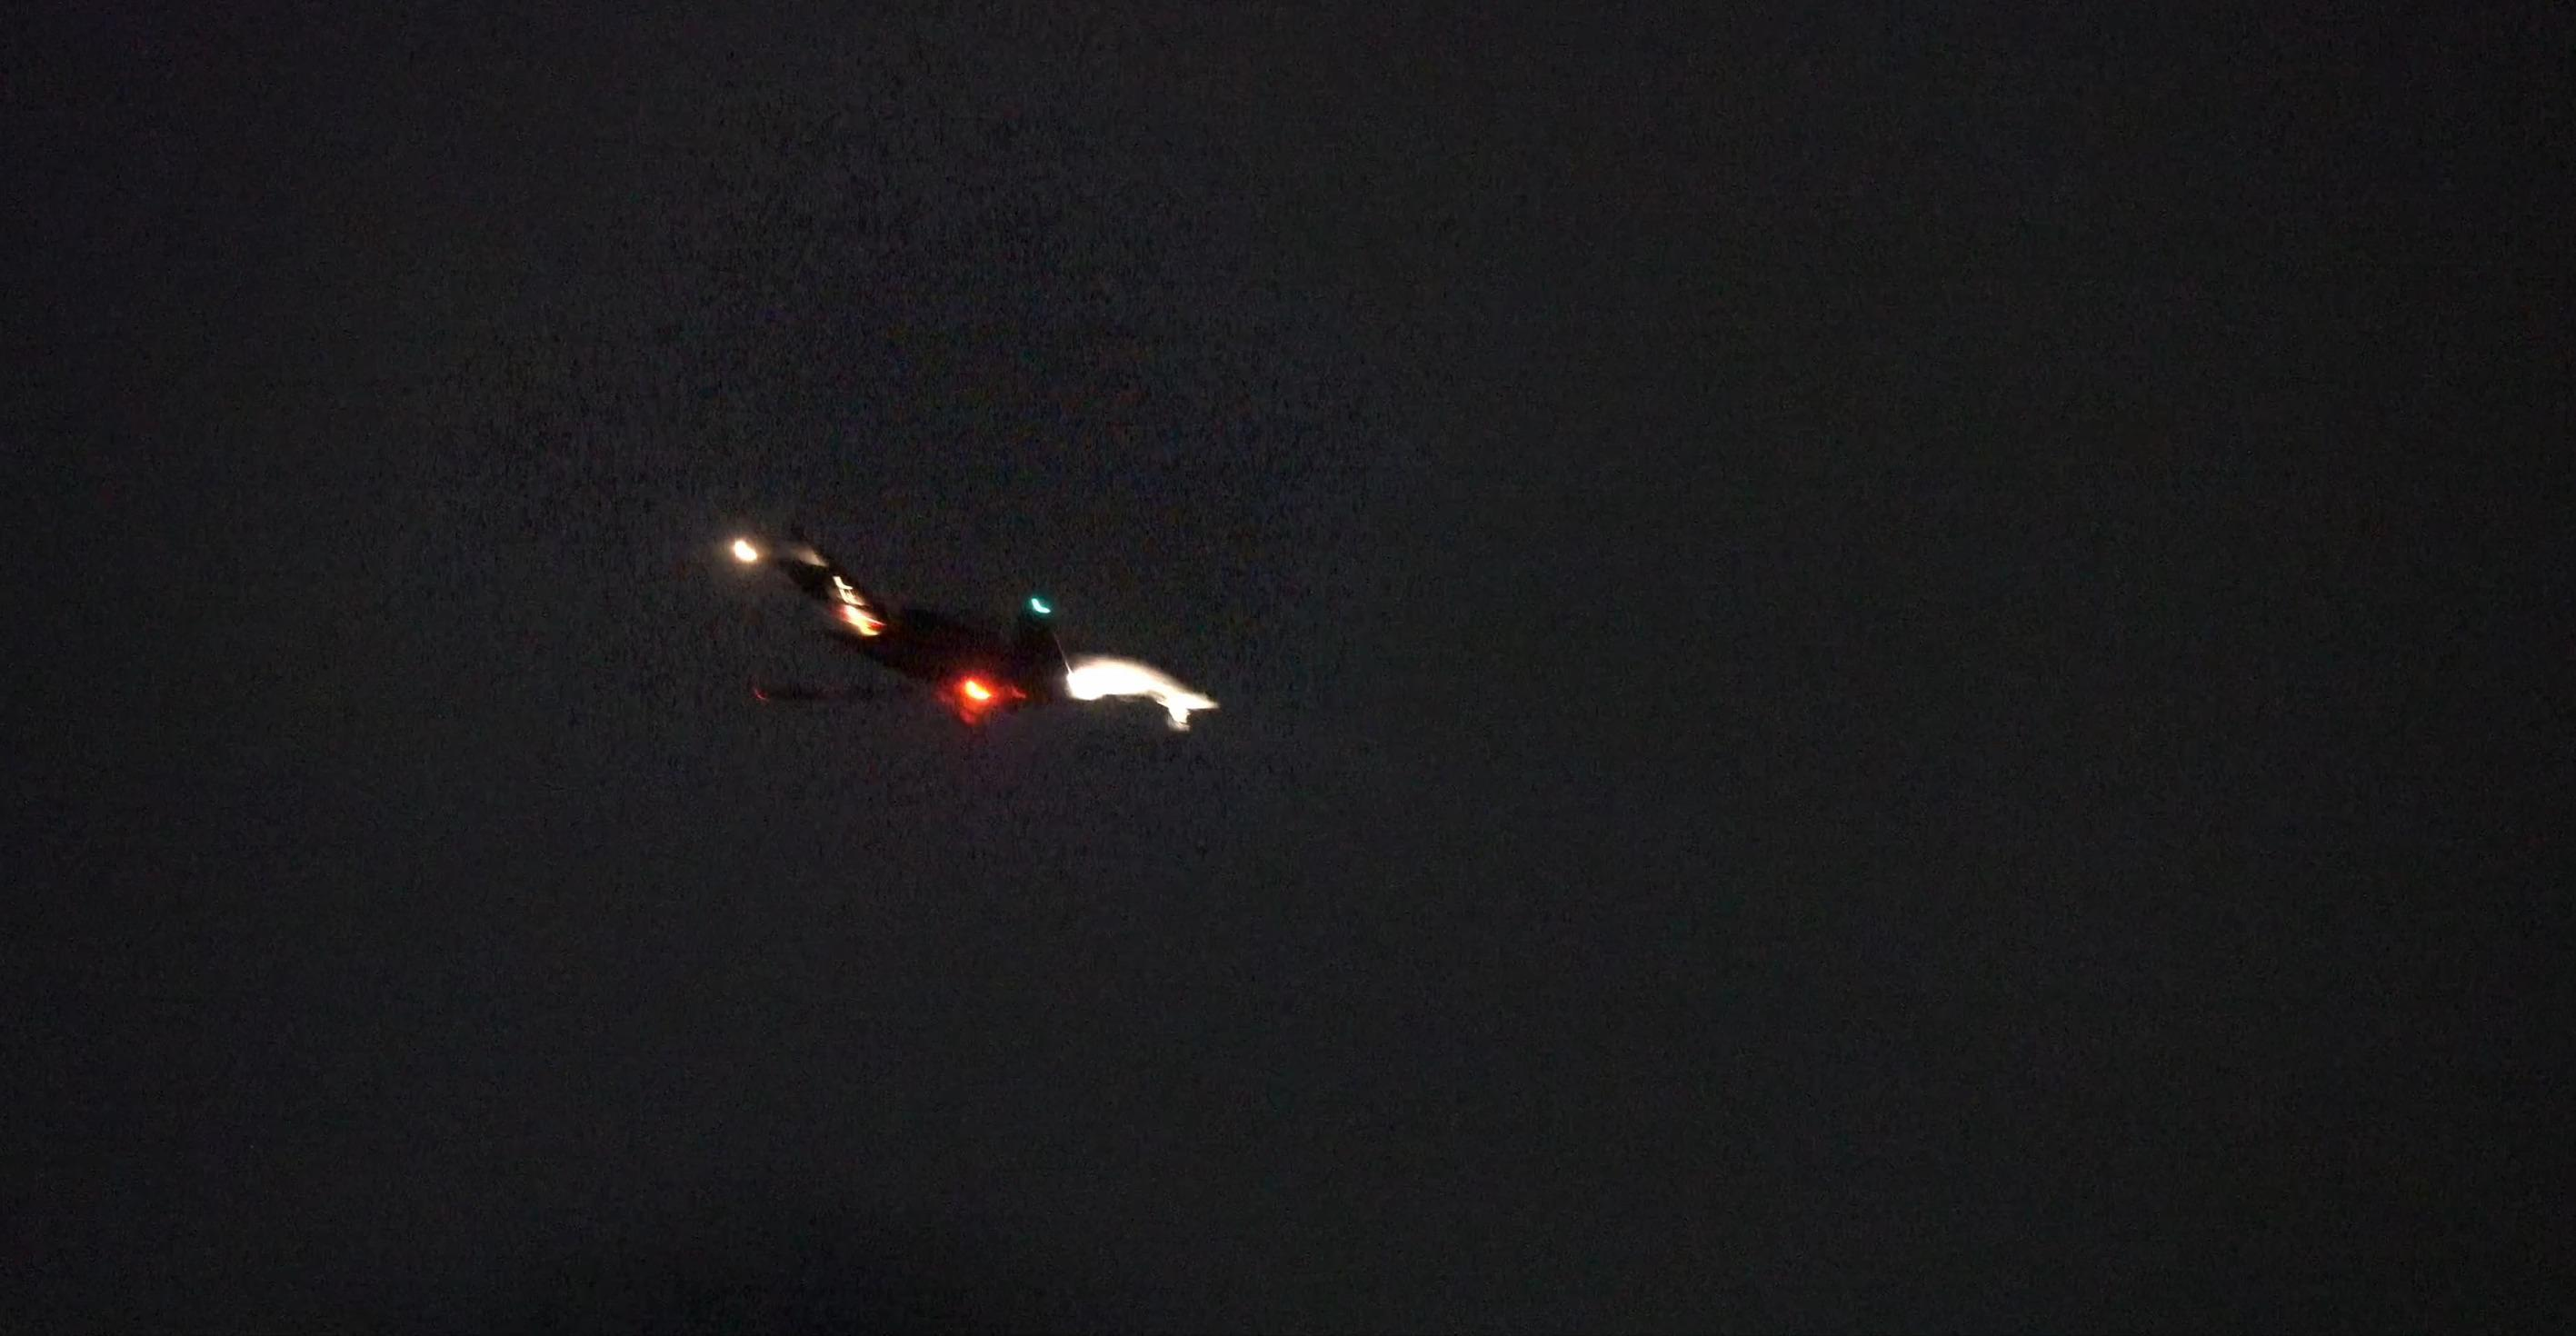Plane: (526, 486, 1394, 798)
